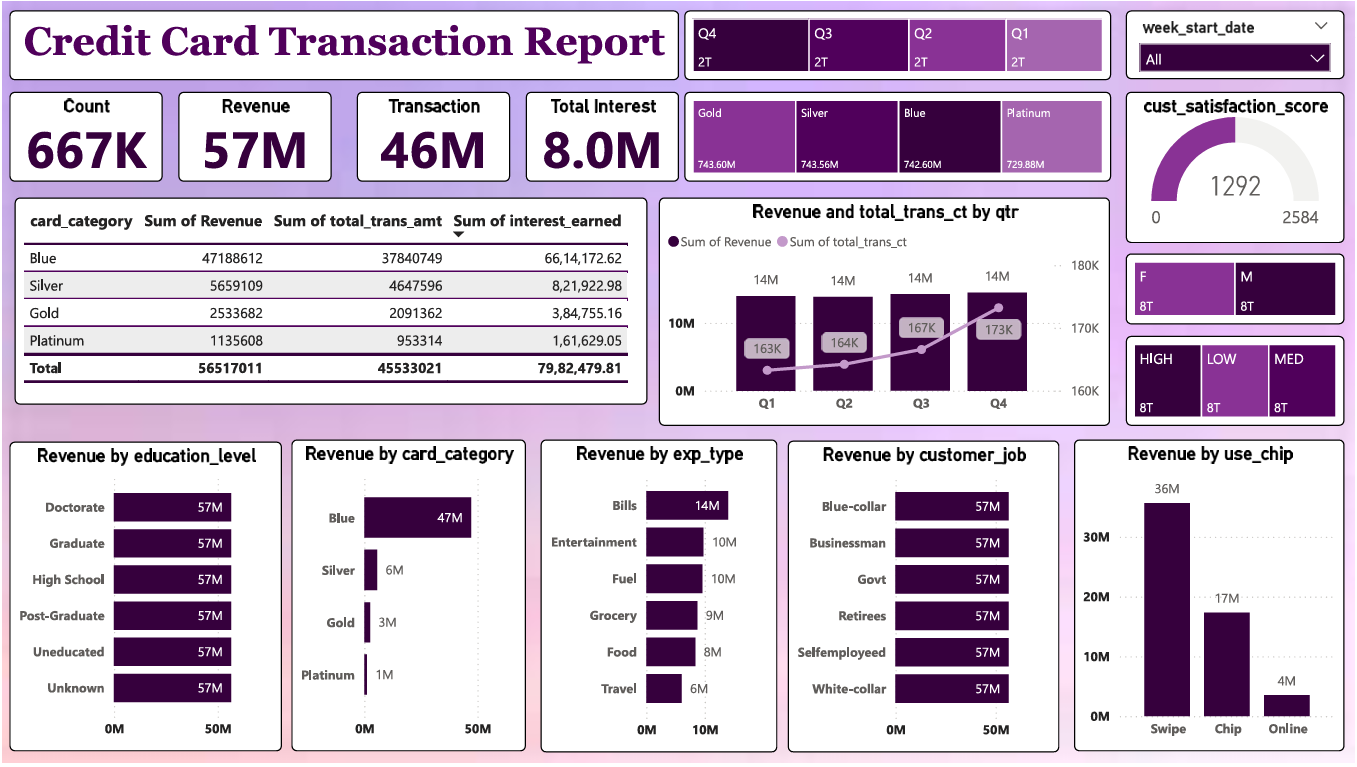

The page's visual inventory and layout, read from the dashboard file:
{"tool":"powerbi","page":{"name":"CC Transaction","canvas":[1280,720],"ordinal":1},"visuals":[{"type":"textbox","box":[6.2,7.5,633.8,66.2],"z":0},{"type":"lineStackedColumnComboChart","title":"Revenue and  total_trans_ct by qtr","fields":{"Y":["Sum(public cc_detail.Revenue)"],"Category":["public cc_detail.qtr"],"Y2":["Sum(public cc_detail.total_trans_ct)"]},"box":[621.2,185,426.2,216.2],"z":1000},{"type":"barChart","title":"Revenue by exp_type","fields":{"Y":["Sum(public cc_detail.Revenue)"],"Category":["public cc_detail.exp_type"]},"box":[508.8,413.8,223.8,296.2],"z":2000},{"type":"barChart","title":"Revenue by customer_job","fields":{"Y":["Sum(public cc_detail.Revenue)"],"Category":["public cust_detail.customer_job"]},"box":[742.5,415,257.5,295],"z":3000},{"type":"barChart","title":"Revenue by education_level","fields":{"Category":["public cust_detail.education_level"],"Y":["Sum(public cc_detail.Revenue)"]},"box":[6.5,415.6,257.1,293.5],"z":4000},{"type":"barChart","title":"Revenue by card_category","fields":{"Category":["public cc_detail.card_category"],"Y":["Sum(public cc_detail.Revenue)"]},"box":[272.5,413.8,222.5,295],"z":5000},{"type":"columnChart","title":"Revenue by use_chip","fields":{"Category":["public cc_detail.use_chip"],"Y":["Sum(public cc_detail.Revenue)"]},"box":[1013.8,413.8,256.2,295],"z":6000},{"type":"tableEx","fields":{"Values":["public cc_detail.card_category","Sum(public cc_detail.Revenue)","Sum(public cc_detail.total_trans_amt)","Sum(public cc_detail.interest_earned)"]},"box":[11.2,185,598.8,196.2],"z":7000},{"type":"card","title":"Revenue","fields":{"Values":["Sum(public cc_detail.Revenue)"]},"box":[166.2,85,145,85],"z":8000},{"type":"card","title":"Transaction","fields":{"Values":["Sum(public cc_detail.total_trans_amt)"]},"box":[335,85,145,85],"z":9000},{"type":"card","title":"Total Interest","fields":{"Values":["Sum(public cc_detail.interest_earned)"]},"box":[495,85,145,85],"z":10000},{"type":"card","title":"Count","fields":{"Values":["Sum(public cc_detail.total_trans_ct)"]},"box":[6.2,85,145,85],"z":11000},{"type":"slicer","fields":{"Values":["public cc_detail.week_start_date"]},"box":[1062.5,7.5,207.5,65],"z":12000},{"type":"treemap","fields":{"Group":["public cc_detail.qtr"],"Values":["Sum(public cc_detail.client_num)"]},"box":[645,7.5,403.8,66.2],"z":13000},{"type":"treemap","fields":{"Group":["public cust_detail.gender"],"Values":["Sum(public cc_detail.client_num)"]},"box":[1062.5,237.5,207.5,67.5],"z":14000},{"type":"treemap","fields":{"Group":["public cc_detail.card_category"],"Values":["Avg(public cc_detail.client_num)"]},"box":[645,85,403.8,85],"z":15000},{"type":"treemap","fields":{"Values":["Sum(public cc_detail.client_num)"],"Group":["public cust_detail.IncomeGroup"]},"box":[1062.5,316.2,207.5,85],"z":16000},{"type":"gauge","title":"cust_satisfaction_score","fields":{"Y":["Sum(public cust_detail.cust_satisfaction_score)"]},"box":[1062.5,85,207.5,142.5],"z":17000}]}

Visuals, with their boxes in screenshot pixels (x1, y1, x2, y2), scaled from the page's 1280x720 canvas onto the 1357x767 screenshot:
textbox: (7,8,678,79)
"Revenue and  total_trans_ct by qtr" lineStackedColumnComboChart: (659,197,1110,427)
"Revenue by exp_type" barChart: (539,441,777,756)
"Revenue by customer_job" barChart: (787,442,1060,756)
"Revenue by education_level" barChart: (7,443,279,755)
"Revenue by card_category" barChart: (289,441,525,755)
"Revenue by use_chip" columnChart: (1075,441,1346,755)
tableEx - public cc_detail.card_category x Sum(public cc_detail.Revenue): (12,197,647,406)
"Revenue" card: (176,91,330,181)
"Transaction" card: (355,91,509,181)
"Total Interest" card: (525,91,678,181)
"Count" card: (7,91,160,181)
slicer - public cc_detail.week_start_date: (1126,8,1346,77)
treemap - public cc_detail.qtr x Sum(public cc_detail.client_num): (684,8,1112,79)
treemap - public cust_detail.gender x Sum(public cc_detail.client_num): (1126,253,1346,325)
treemap - public cc_detail.card_category x Avg(public cc_detail.client_num): (684,91,1112,181)
treemap - Sum(public cc_detail.client_num) x public cust_detail.IncomeGroup: (1126,337,1346,427)
"cust_satisfaction_score" gauge: (1126,91,1346,242)
